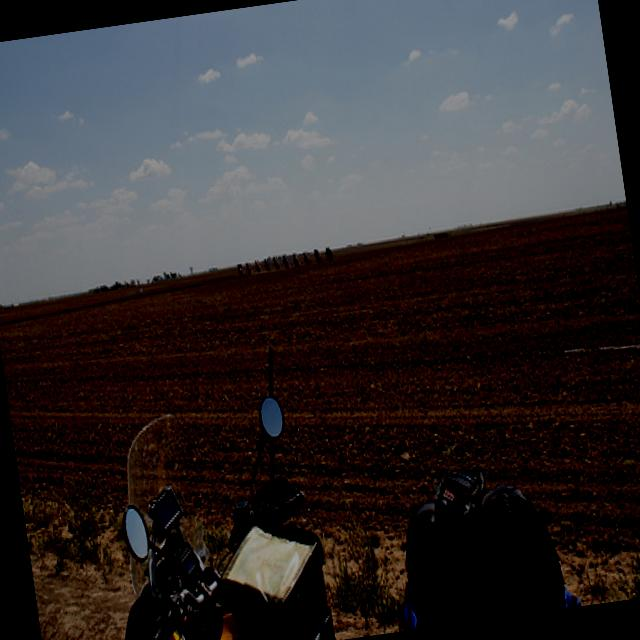Vehicle: (84, 353, 583, 640)
